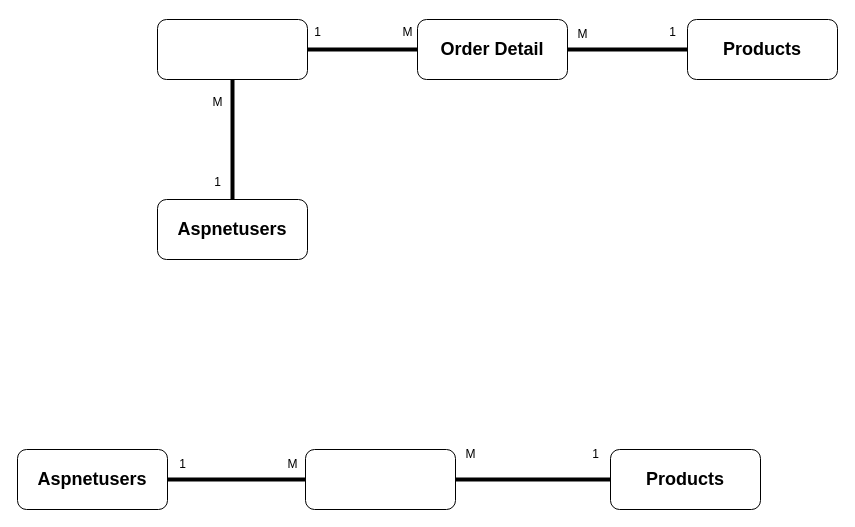
This 855x527 diagram has some shape labels left out. Each missing label, with the centre of its shape:
Order Header: point 232,49
Review: point 380,479
